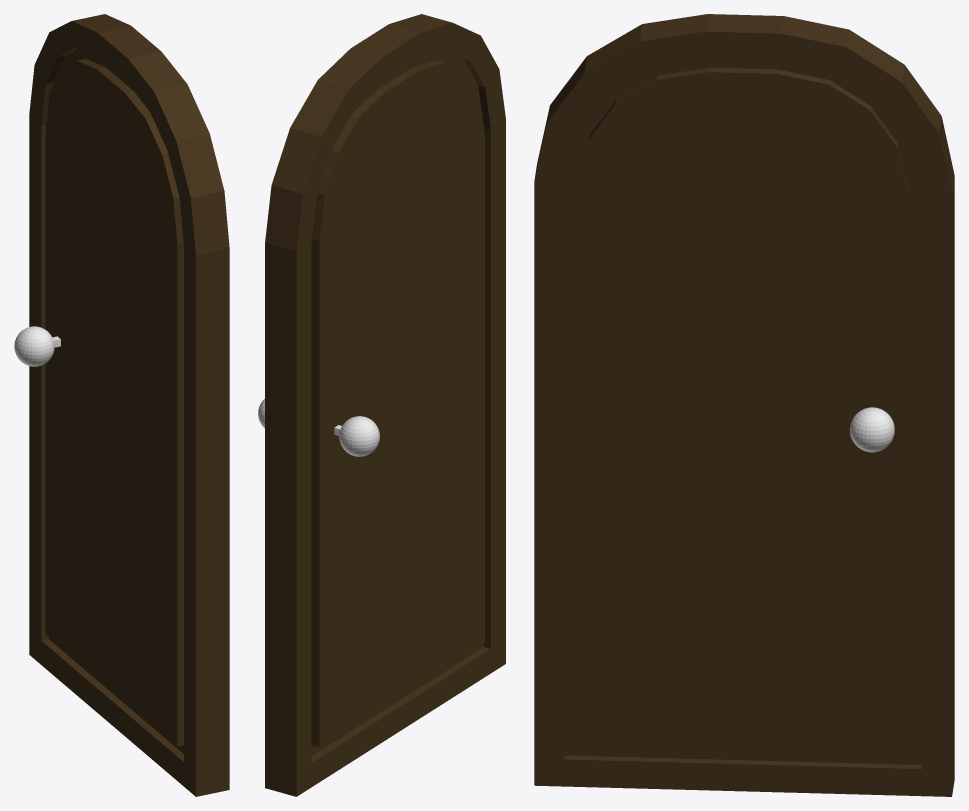
Rendered from AnimDoor.fbx.
The picture shows the model from 3 angles, left to right: view 1: azimuth 30°, elevation 25°; view 2: azimuth 150°, elevation 25°; view 3: azimuth 270°, elevation 25°; orthographic projection. The views are drawn at different scales.
Parts seen in each view (by area): view 1: Door; view 2: Door; view 3: Door.
Boxes of the visible parts, x1=… form: Door: x1=14, y1=14, x2=229, y2=796; Door: x1=258, y1=14, x2=505, y2=796; Door: x1=534, y1=14, x2=954, y2=796.
Size of the model in its own units: 37.1 by 102 by 203.
